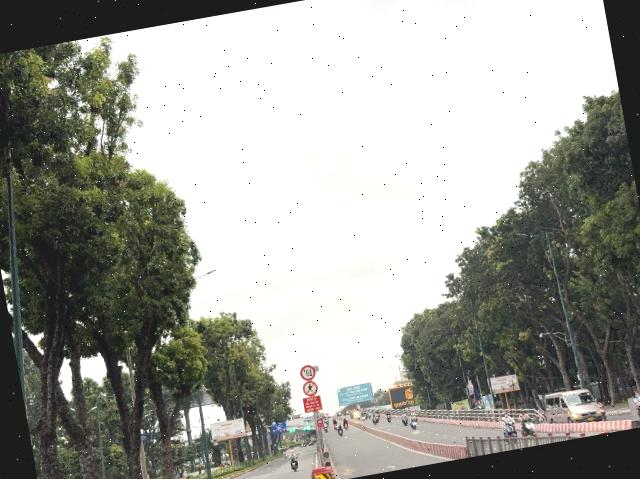cam-nguoi-di-bo: (301, 379, 319, 397)
han-che-trong-luong-xe: (298, 364, 316, 382)
